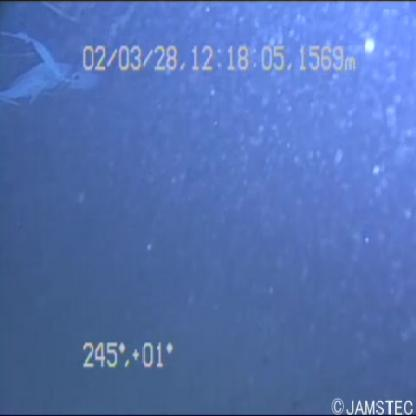Rác: (1, 19, 99, 127)
